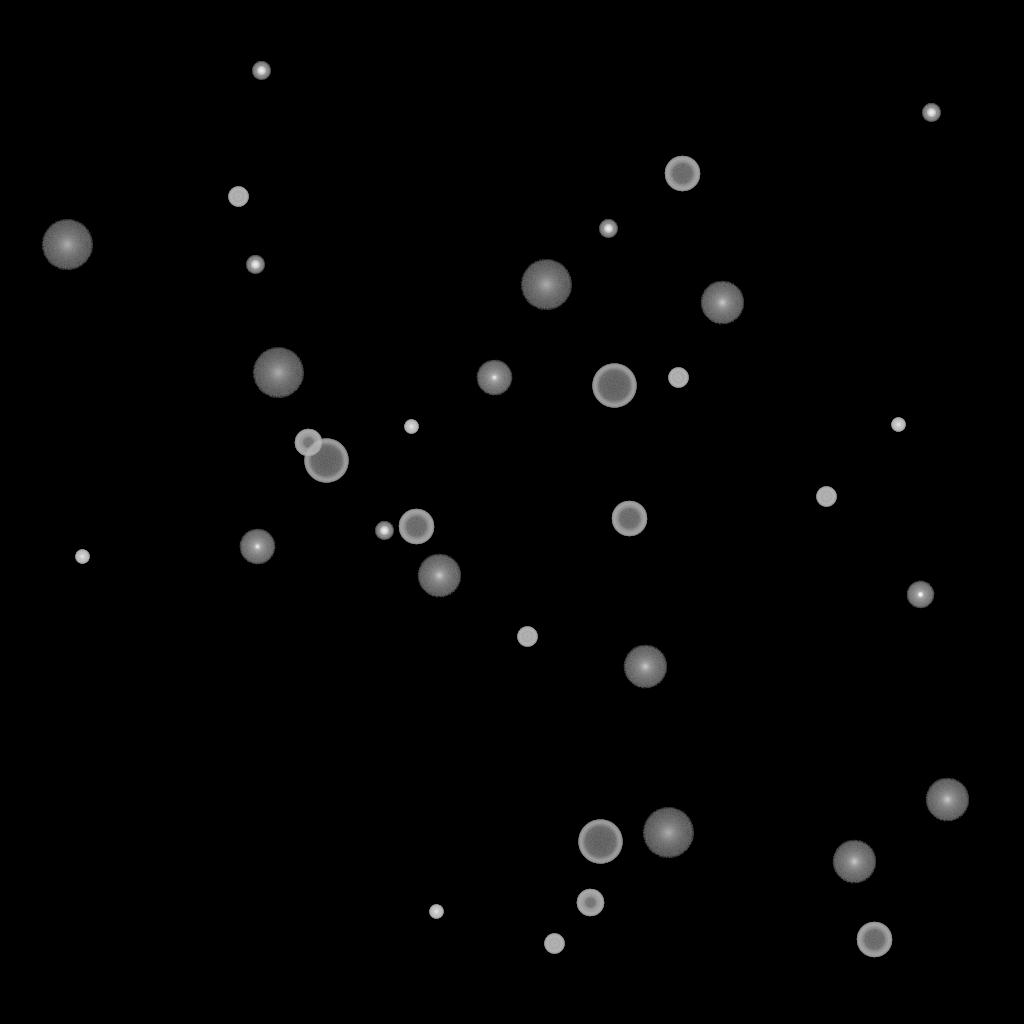depth:-10: (906, 581, 934, 609)
depth:-20: (375, 522, 393, 540), (922, 104, 940, 122), (599, 220, 617, 238), (252, 62, 270, 80), (246, 256, 264, 274)
depth:-30: (75, 550, 89, 564), (429, 905, 443, 919), (404, 420, 418, 434), (891, 418, 905, 432)
depth:-40: (228, 187, 248, 207), (544, 934, 564, 954), (816, 487, 836, 507), (517, 627, 537, 647), (668, 368, 688, 388)
depth:-50: (294, 429, 322, 457), (576, 889, 604, 917)
depth:-60: (611, 501, 647, 537), (856, 922, 892, 958), (664, 156, 700, 192), (398, 509, 434, 545)
depth:-70: (592, 364, 636, 408), (578, 820, 622, 864), (304, 439, 348, 483)
depth:0: (239, 529, 275, 565), (476, 360, 512, 396)
depth:10: (925, 778, 969, 822), (832, 840, 876, 884), (623, 645, 667, 689), (700, 281, 744, 325), (417, 554, 461, 598)
depth:20: (520, 260, 572, 310), (252, 348, 304, 398), (41, 220, 93, 270), (642, 808, 694, 858)
